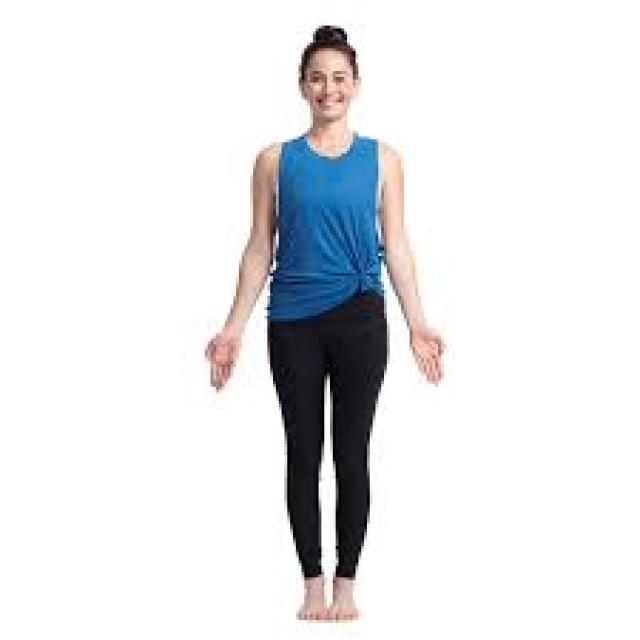adult: (190, 14, 467, 637)
